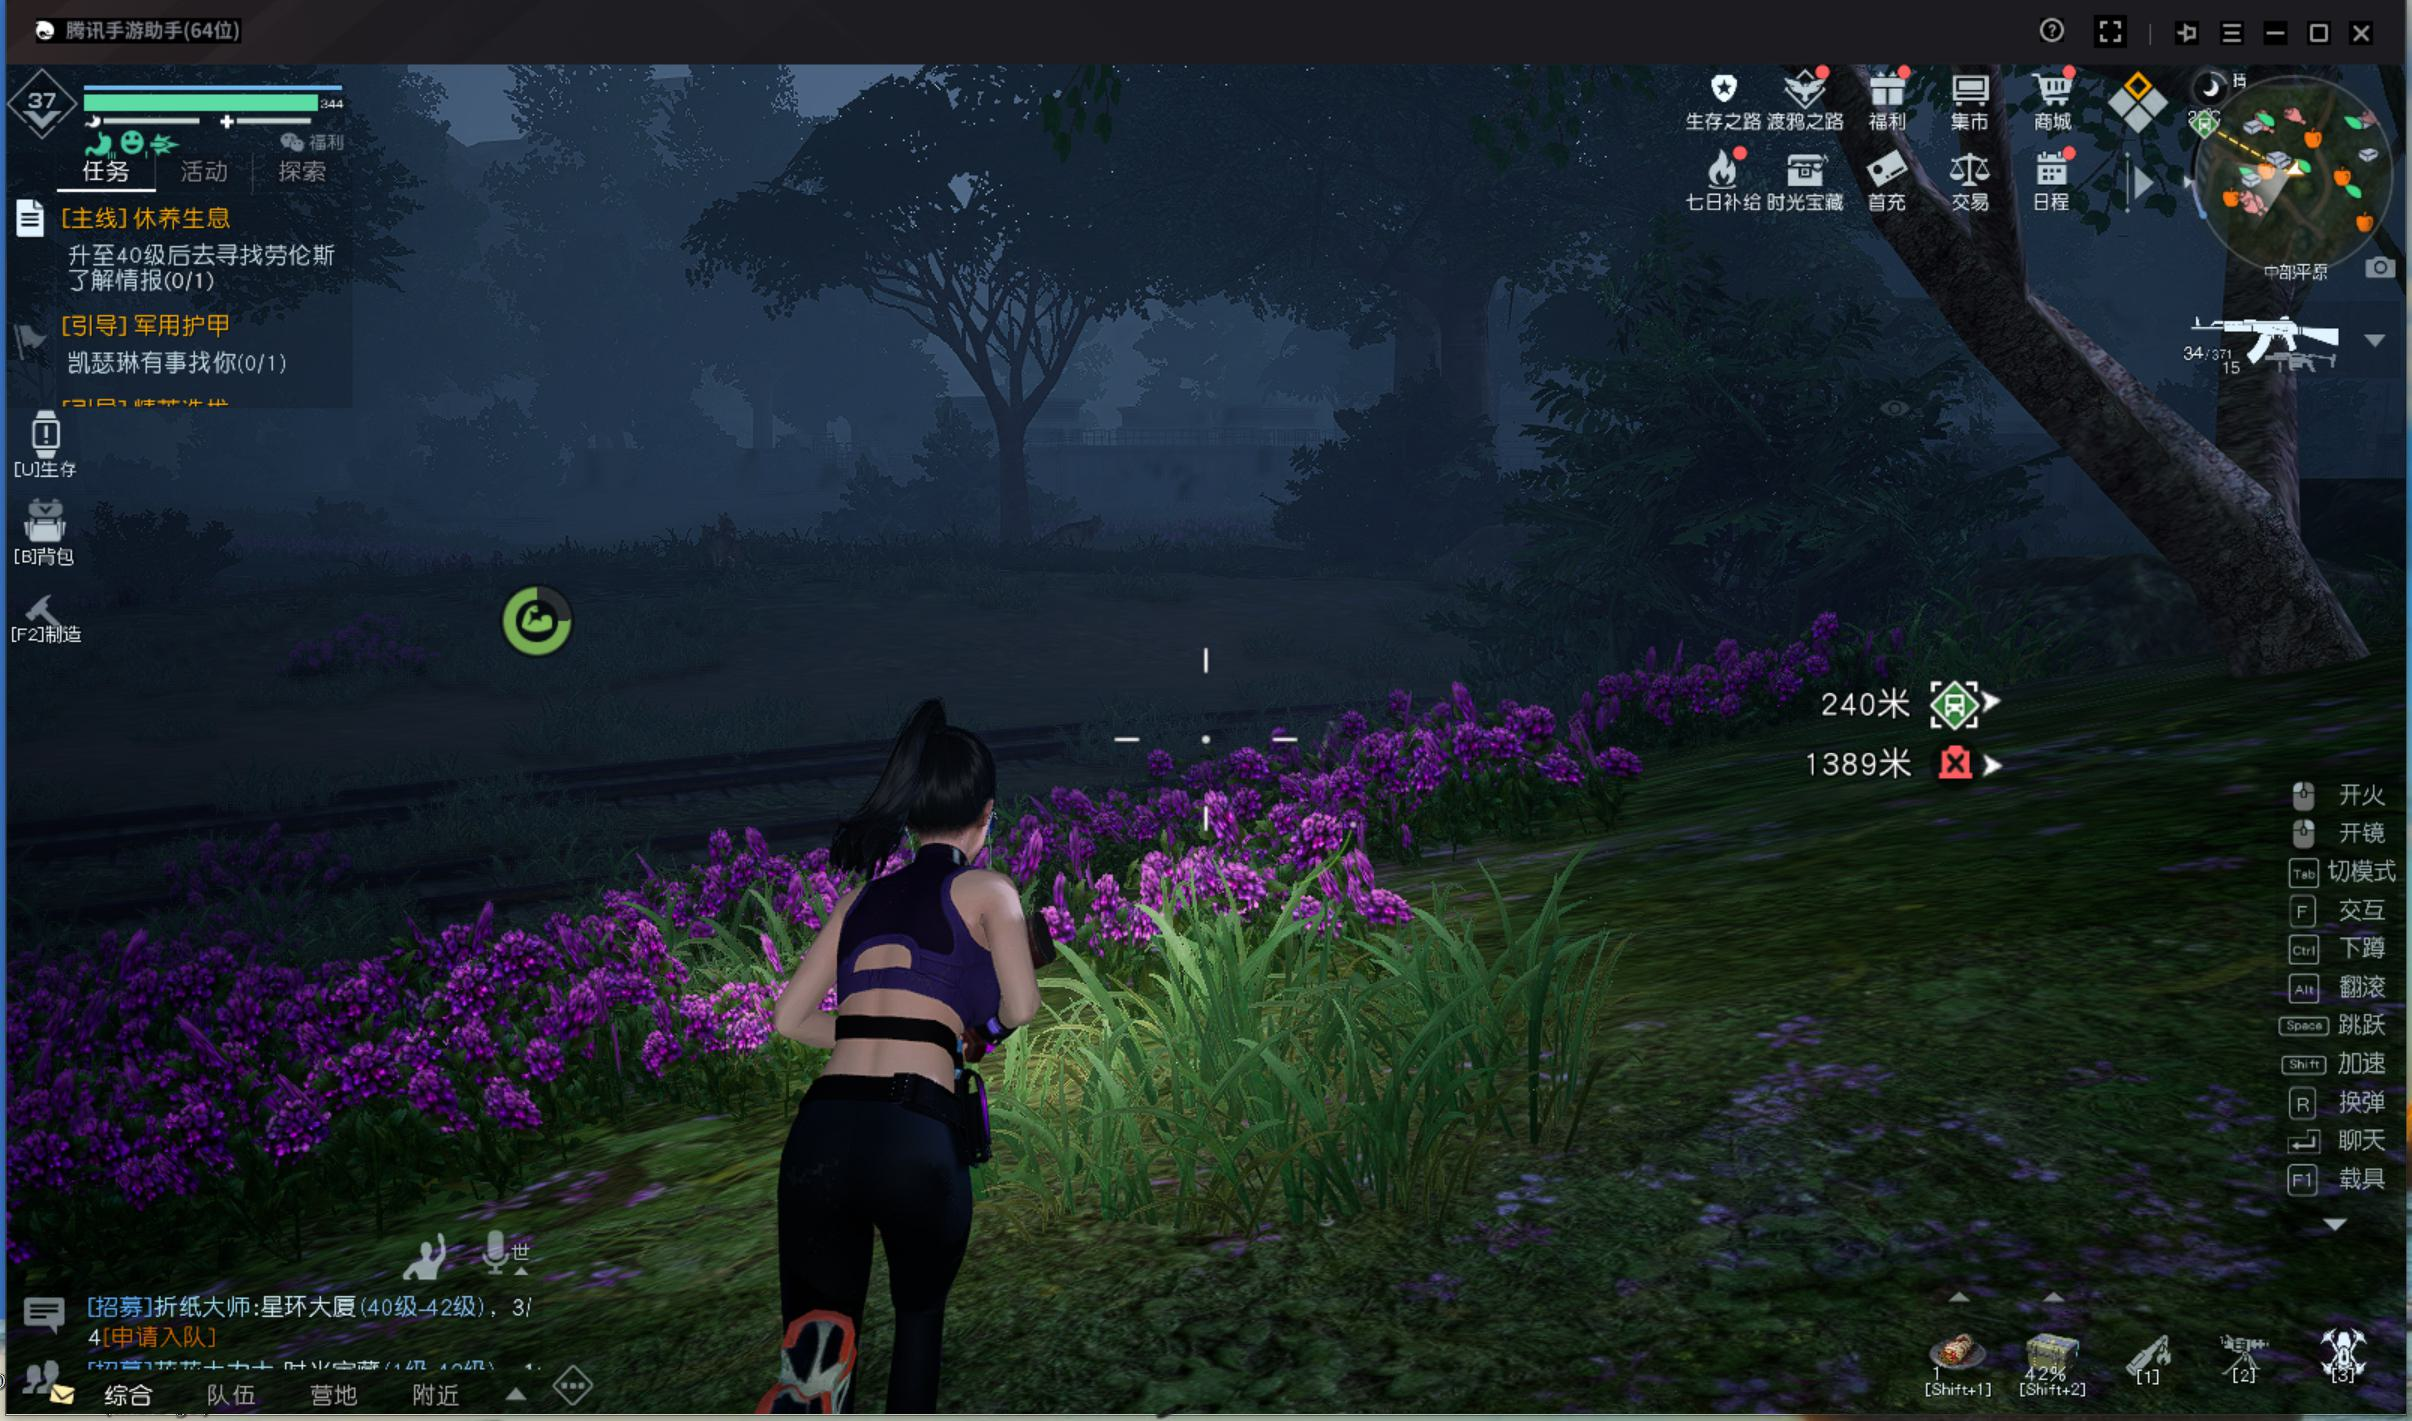tree: (1429, 338, 1504, 513), (984, 430, 1035, 550)
